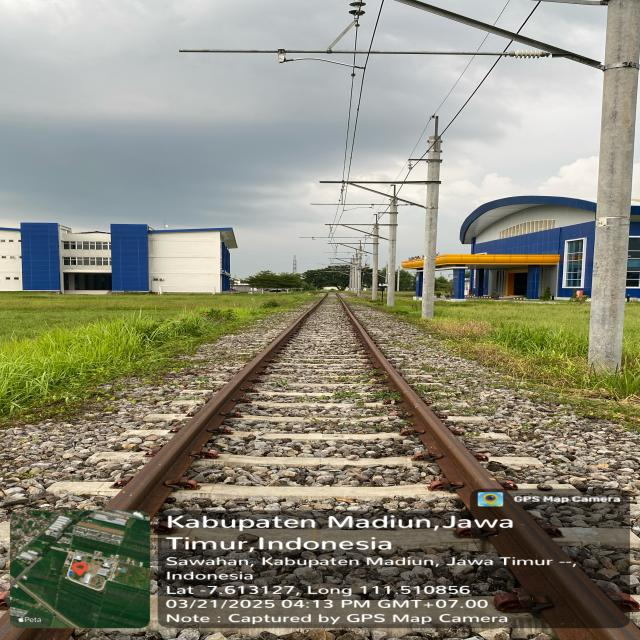rail-detection: (341, 298, 640, 640), (106, 303, 320, 517)
